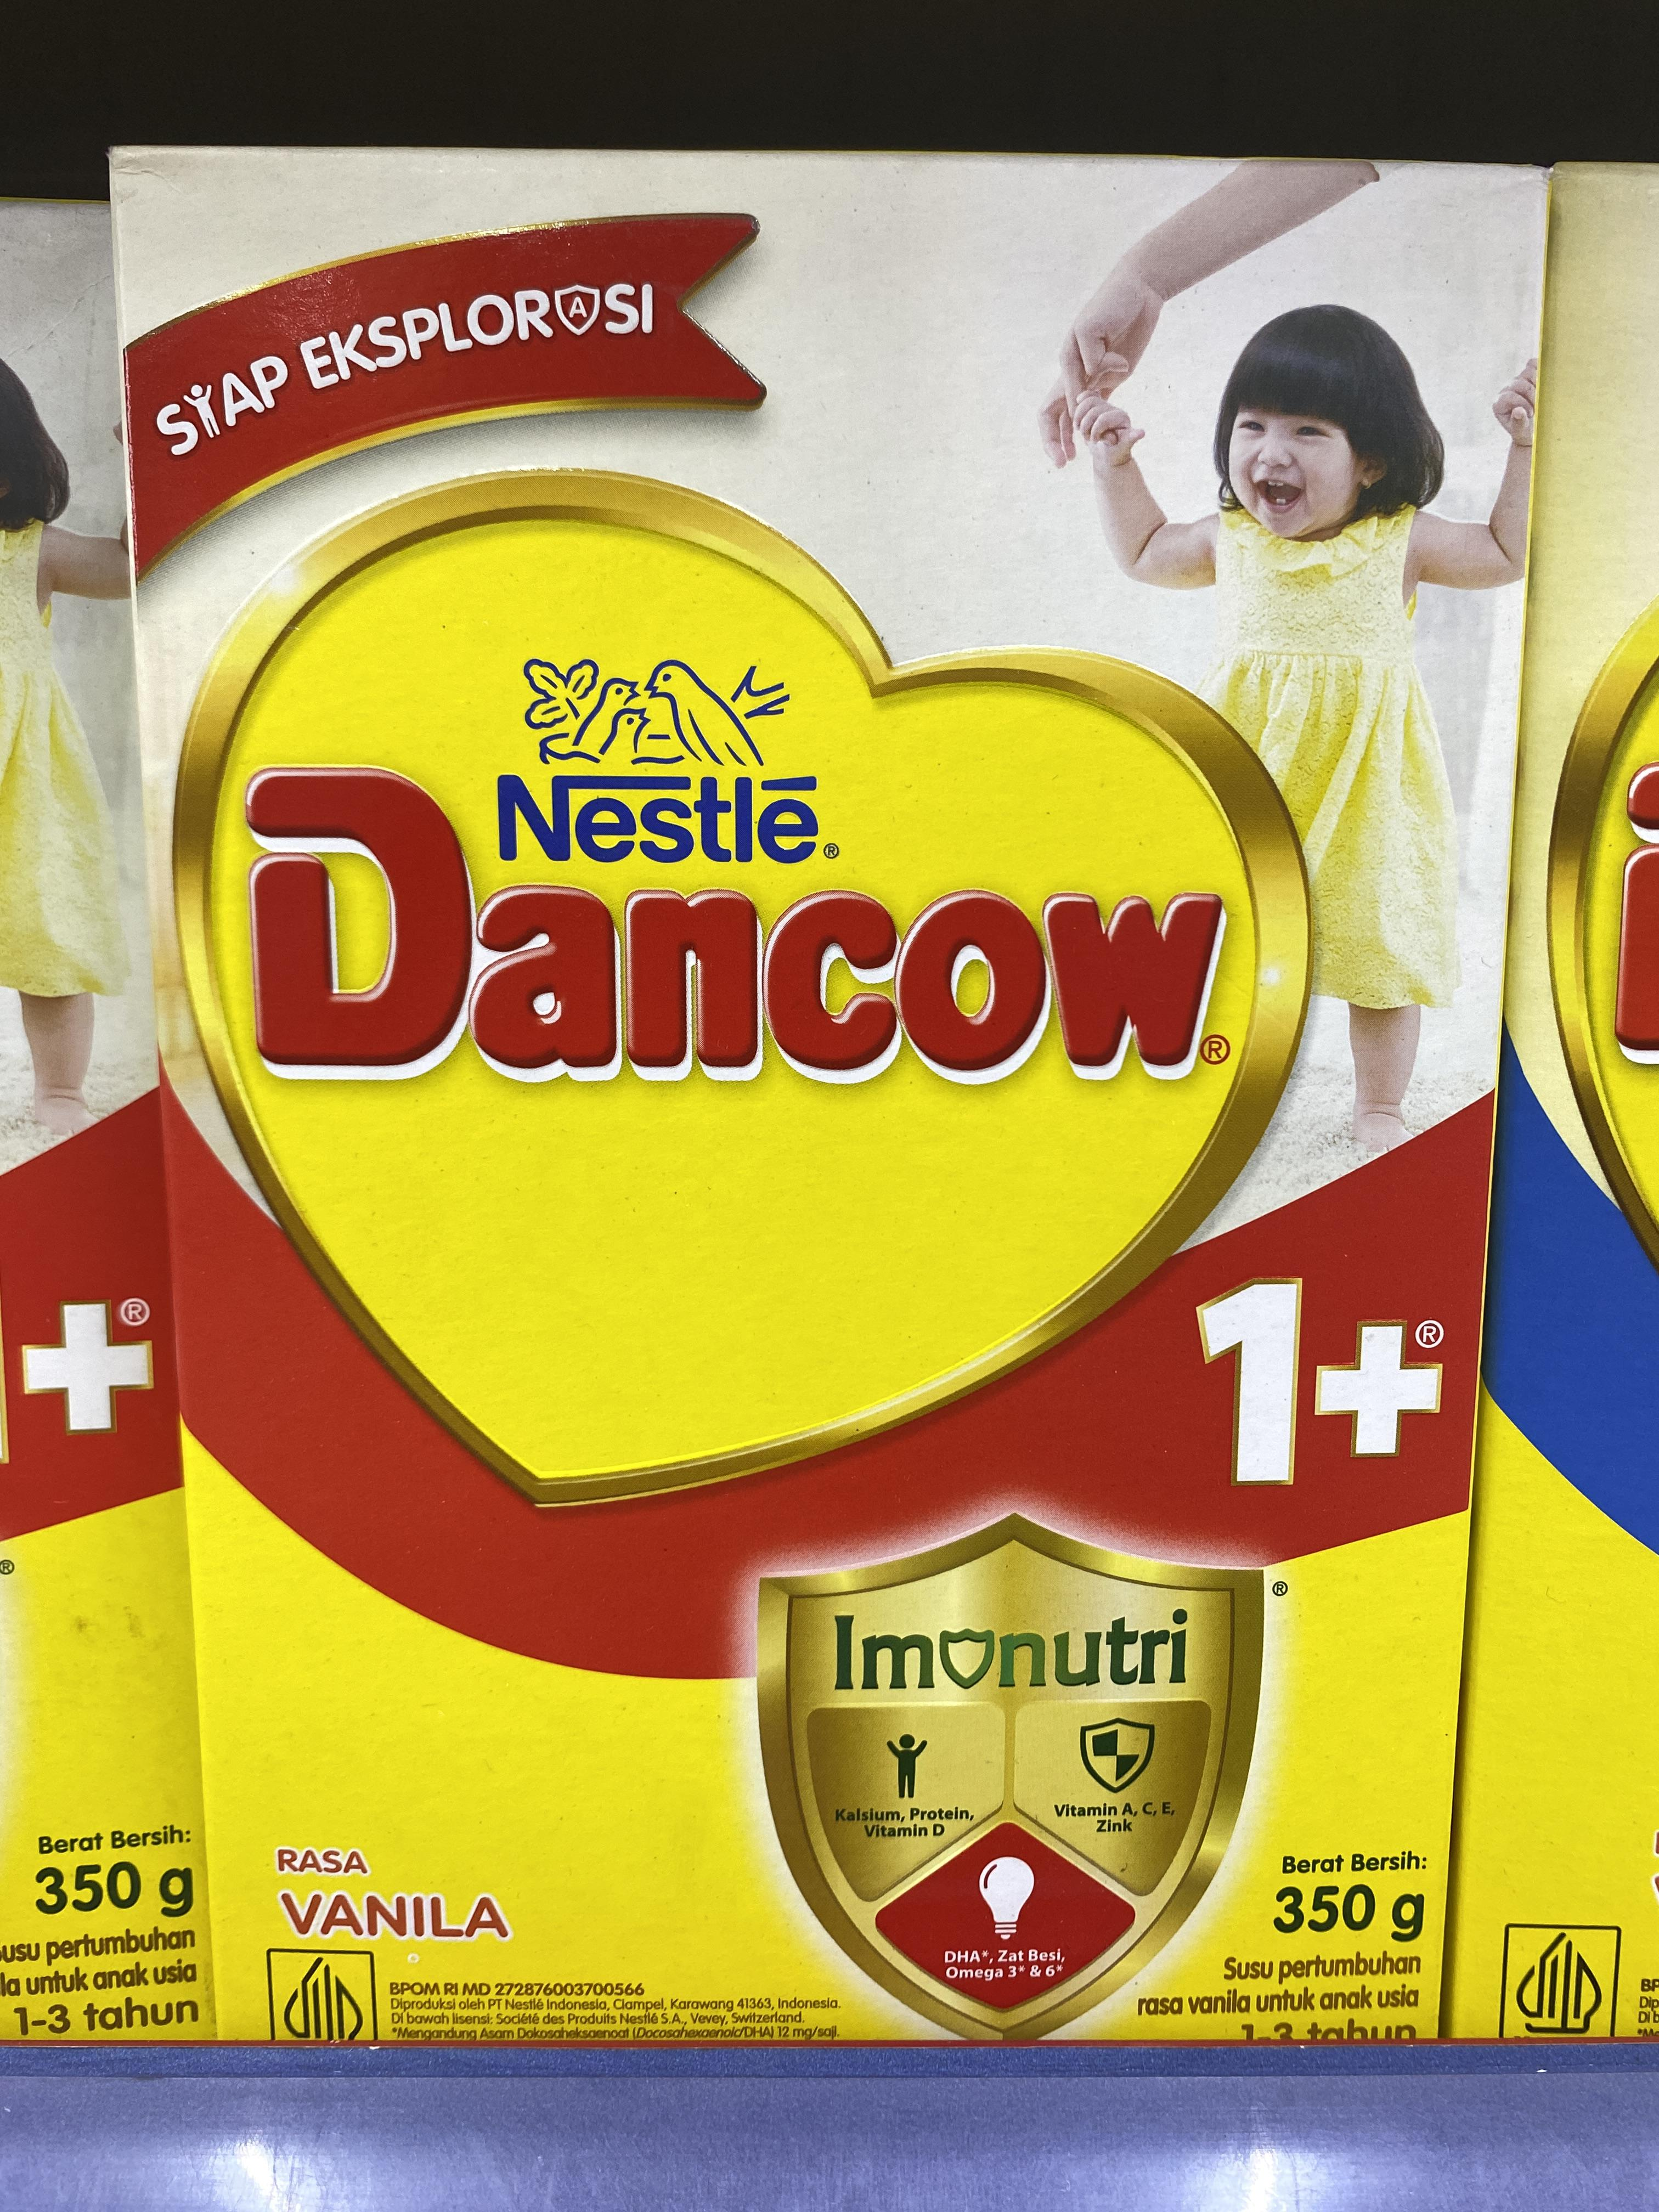DANCOW 1+ Madu Advn ExcNutr 12x1000g N1 ID_REDESIGN3: (148, 138, 1537, 2059)
DANCOW 1+ Van Advn ExcNutr 12x800g N1 ID_REDESIGN3: (150, 141, 1541, 2050)
